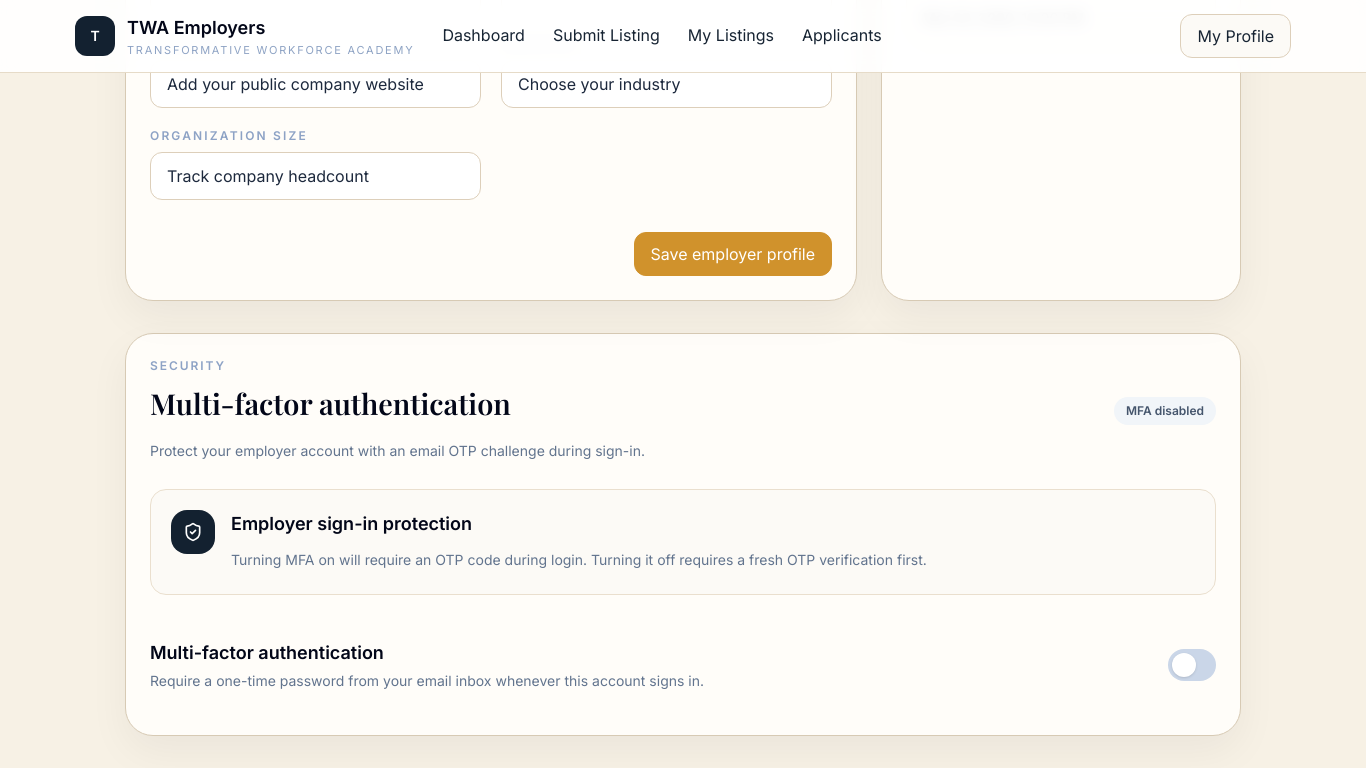
Test: employer MFA can be enabled from the profile page after confirmation
The width and height of the screenshot is (1366, 768).
(page scrolled)
Step 1. Click the switch named "multi-factor authentication" → (1192, 665), box [1168, 649, 1216, 681]
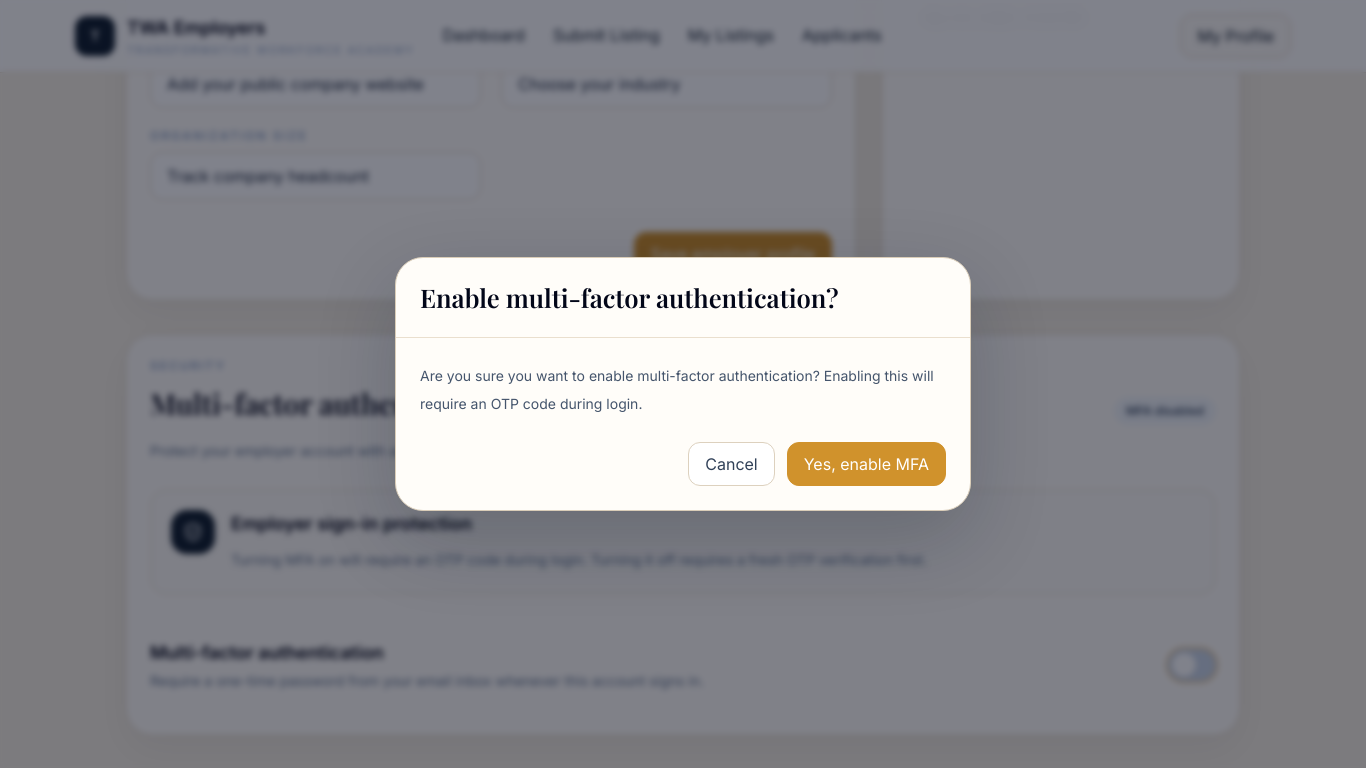
Result: the text "Are you sure you want to enable multi-factor authentication" is shown at [420, 367, 934, 412]
Step 2. Click the button "Yes, enable MFA" → (866, 464), box [787, 442, 946, 486]
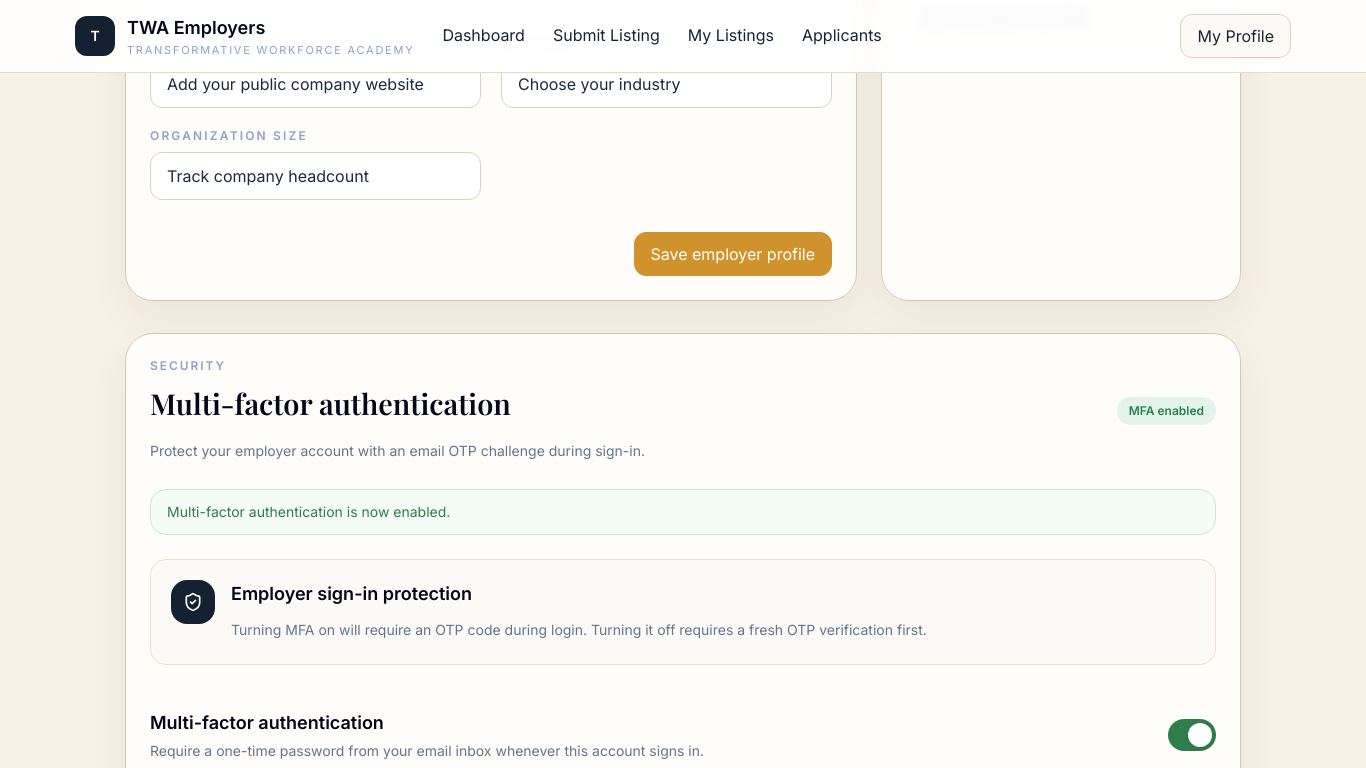
Result: the text "Multi-factor authentication is now enabled." is shown at [150, 489, 1216, 535]
